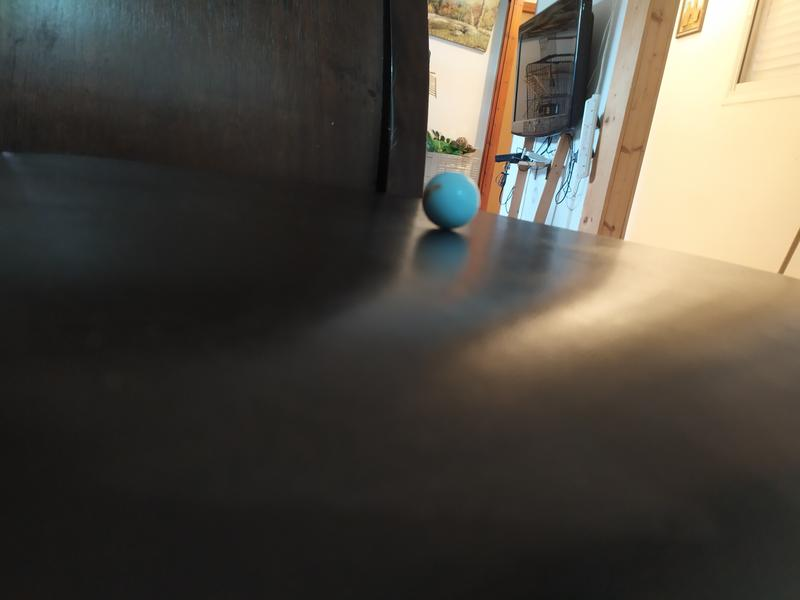Warning: (421, 169, 484, 231)
